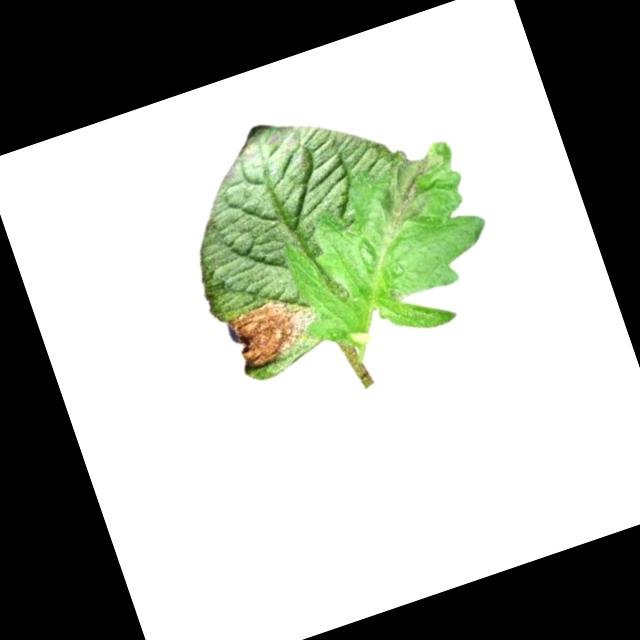Late_blight: (222, 289, 322, 375), (367, 143, 459, 231)
